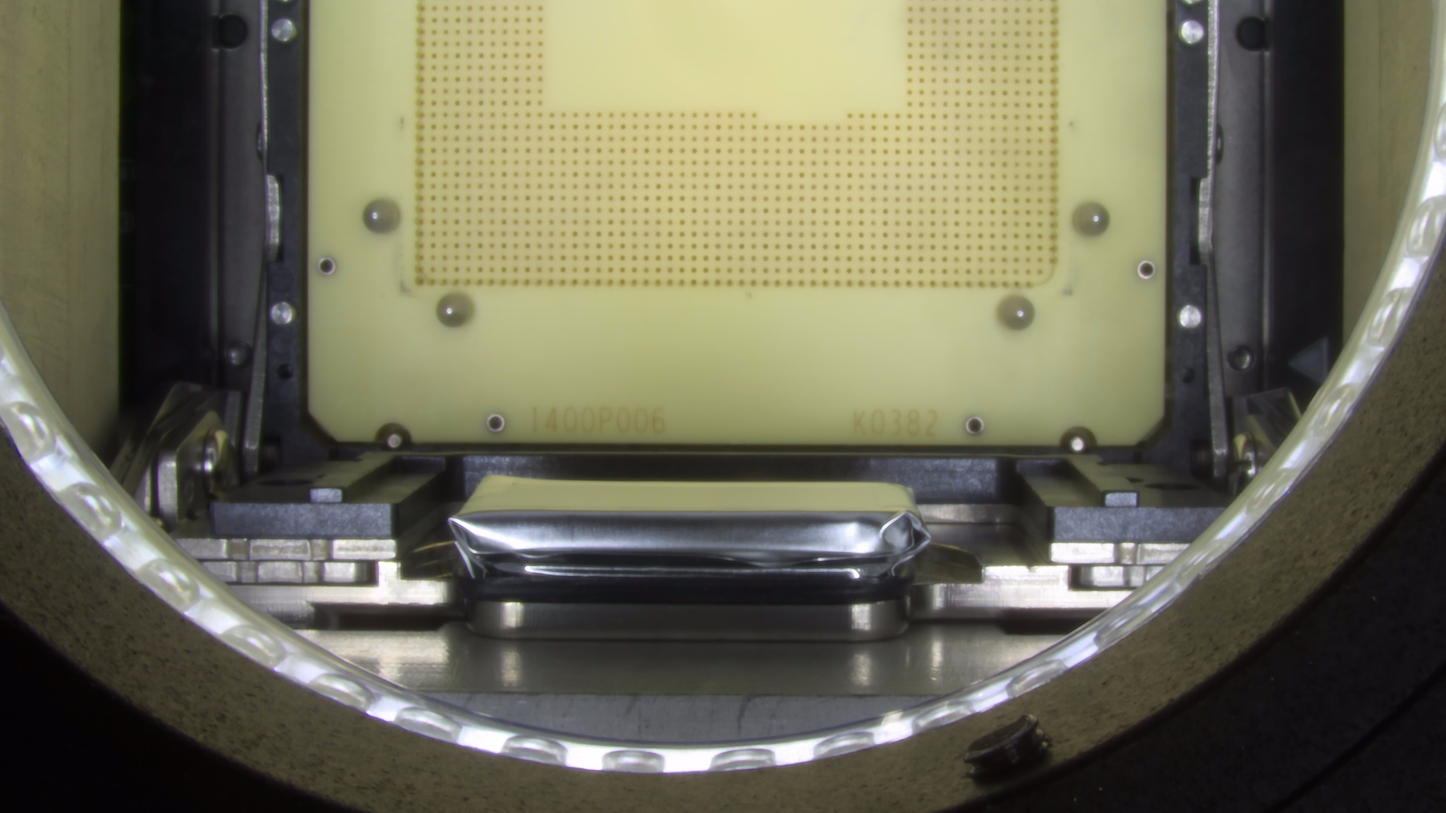normal: (443, 467, 936, 607)
